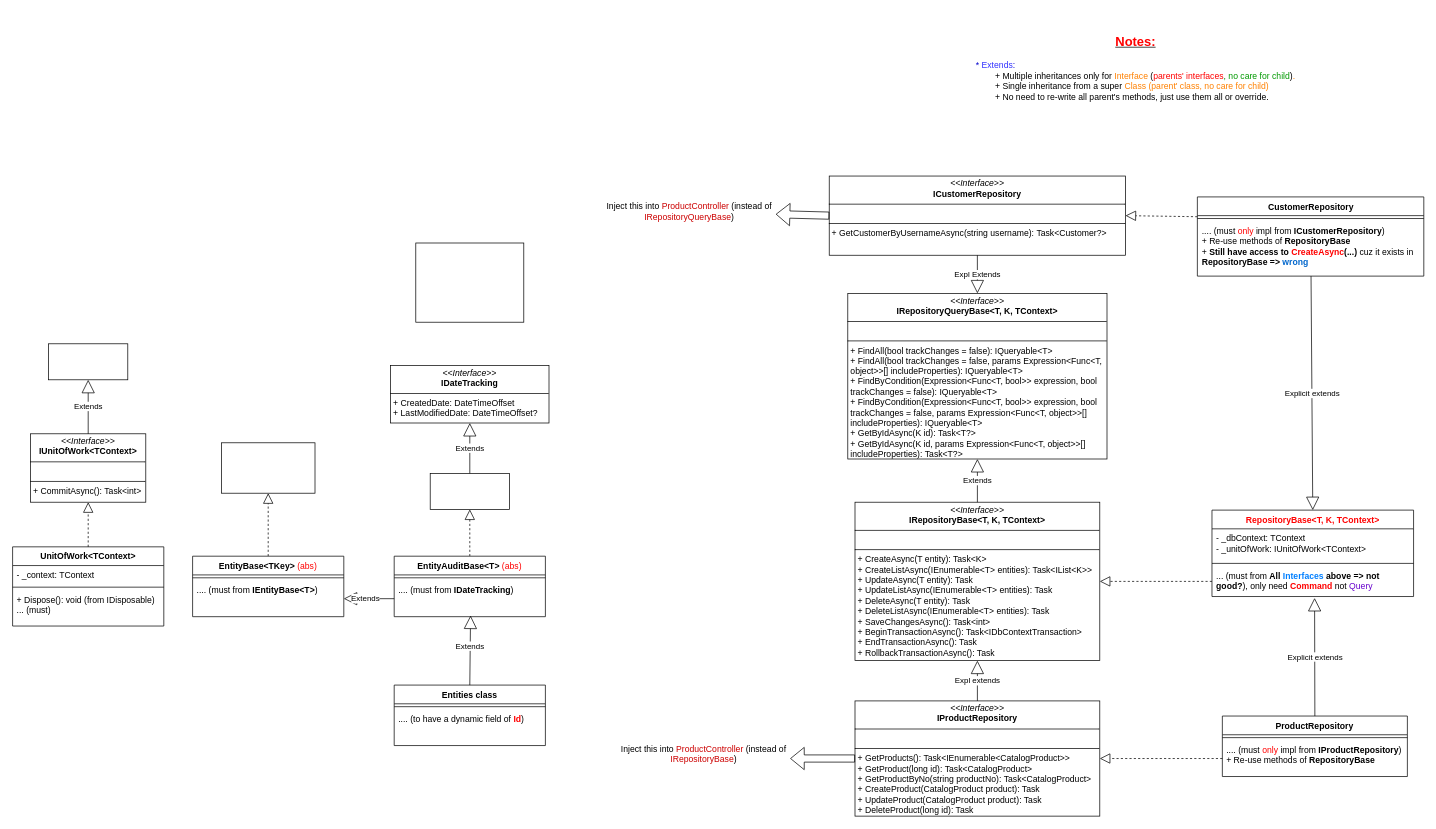
The diagram is 1436 pixels wide and 829 high, and some of its shapes have lost their labels. The shapes that lost their labels are listed below. From the top down, each one's centre as x and y in pixels, then its label:
At point 469,282: "<<Interface>> IUserTracking + CreatedBy(): string + LastModifiedBy: string".
At point 88,361: "«interface» IDisposable".
At point 268,467: "<<Interface>> IEntityBase<T> + Id: T".
At point 469,491: "«interface» IAuditable".
